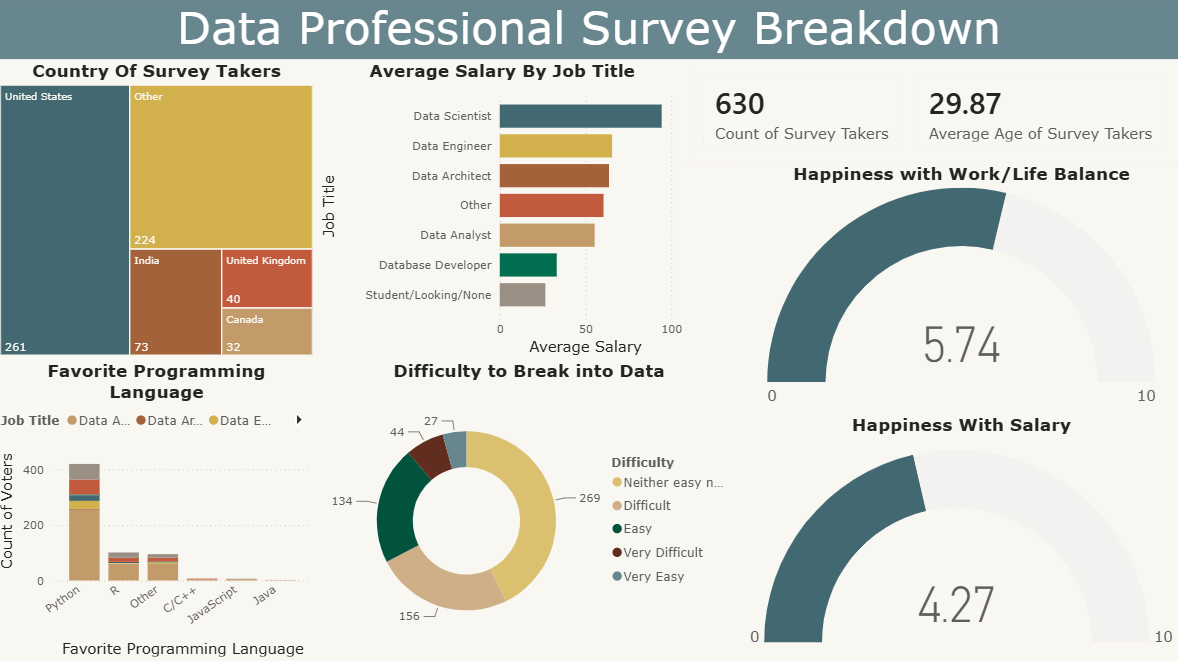

This screenshot's page, from the dashboard's own definition file:
{"tool":"powerbi","page":{"name":"Page 1","canvas":[1280,720],"ordinal":0},"visuals":[{"type":"textbox","box":[0,0,1280.3,69.7],"z":0},{"type":"cardVisual","fields":{"Data":["CountNonNull(Data Professional Survey.Unique ID)"]},"box":[746,70.2,248.2,110.6],"z":1000},{"type":"cardVisual","fields":{"Data":["Avg(Data Professional Survey.Q10 - Current Age)"]},"box":[976.7,70.2,303.5,110.6],"z":2000},{"type":"barChart","title":"Average Salary By Job Title","fields":{"Category":["Data Professional Survey.Q1 - Which Title Best Fits your Current Role?.1"],"Y":["Avg(Data Professional Survey.Average Salary)"],"Series":["Data Professional Survey.Q1 - Which Title Best Fits your Current Role?.1"]},"box":[346.7,70.2,399.3,323.8],"z":3000},{"type":"columnChart","title":"Favorite Programming Language","fields":{"Category":["Data Professional Survey.Q5 - Favorite Programming Language.1"],"Y":["CountNonNull(Data Professional Survey.Unique ID)"],"Series":["Data Professional Survey.Q1 - Which Title Best Fits your Current Role?.1"]},"box":[0,393.9,346.7,325.1],"z":4000},{"type":"treemap","title":"Country Of Survey Takers","fields":{"Group":["Data Professional Survey.Q11 - Which Country do you live in?.1"],"Values":["CountNonNull(Data Professional Survey.Q11 - Which Country do you live in?.1)"]},"box":[0,70.2,346.7,323.8],"z":5000},{"type":"gauge","title":"Happiness with Work/Life Balance","fields":{"Y":["Avg(Data Professional Survey.Q6 - How Happy are you in your Current Position with the following? (Work/Life Balance))"],"MinValue":["Min(Data Professional Survey.Q6 - How Happy are you in your Current Position with the following? (Work/Life Balance))1"],"MaxValue":["Max(Data Professional Survey.Q6 - How Happy are you in your Current Position with the following? (Work/Life Balance))2"]},"box":[804,180.8,476.2,271.2],"z":6000},{"type":"gauge","title":"Happiness With Salary","fields":{"Y":["Avg(Data Professional Survey.Q6 - How Happy are you in your Current Position with the following? (Salary))"],"MinValue":["Min(Data Professional Survey.Q6 - How Happy are you in your Current Position with the following? (Salary))"],"MaxValue":["Max(Data Professional Survey.Q6 - How Happy are you in your Current Position with the following? (Salary))"]},"box":[804,451.9,476.2,268.5],"z":7000},{"type":"donutChart","title":"Difficulty to Break into Data","fields":{"Y":["CountNonNull(Data Professional Survey.Q7 - How difficult was it for you to break into Data?)"],"Category":["Data Professional Survey.Q7 - How difficult was it for you to break into Data?"]},"box":[346.7,393.9,457.3,325.1],"z":8000}]}

Visuals, with their boxes in screenshot pixels (x1, y1, x2, y2), scaled from the page's 1280x720 canvas onto the 1178x661 screenshot:
textbox: (left=0, top=0, right=1177, bottom=64)
cardVisual - CountNonNull(Data Professional Survey.Unique ID): (left=687, top=64, right=915, bottom=166)
cardVisual - Avg(Data Professional Survey.Q10 - Current Age): (left=899, top=64, right=1177, bottom=166)
"Average Salary By Job Title" barChart: (left=319, top=64, right=687, bottom=362)
"Favorite Programming Language" columnChart: (left=0, top=362, right=319, bottom=660)
"Country Of Survey Takers" treemap: (left=0, top=64, right=319, bottom=362)
"Happiness with Work/Life Balance" gauge: (left=740, top=166, right=1177, bottom=415)
"Happiness With Salary" gauge: (left=740, top=415, right=1177, bottom=660)
"Difficulty to Break into Data" donutChart: (left=319, top=362, right=740, bottom=660)
